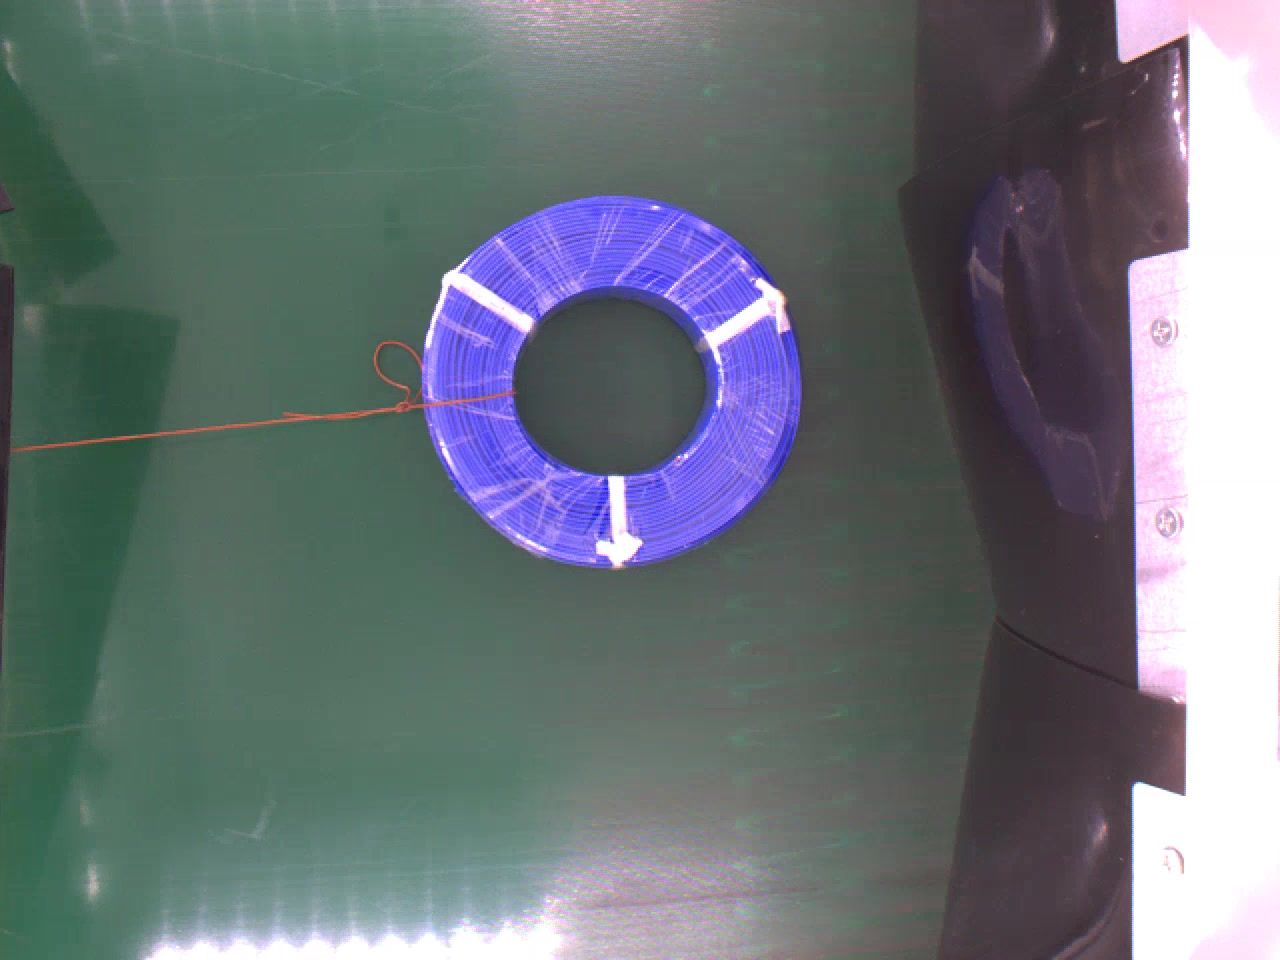blue: (416, 190, 802, 573)
